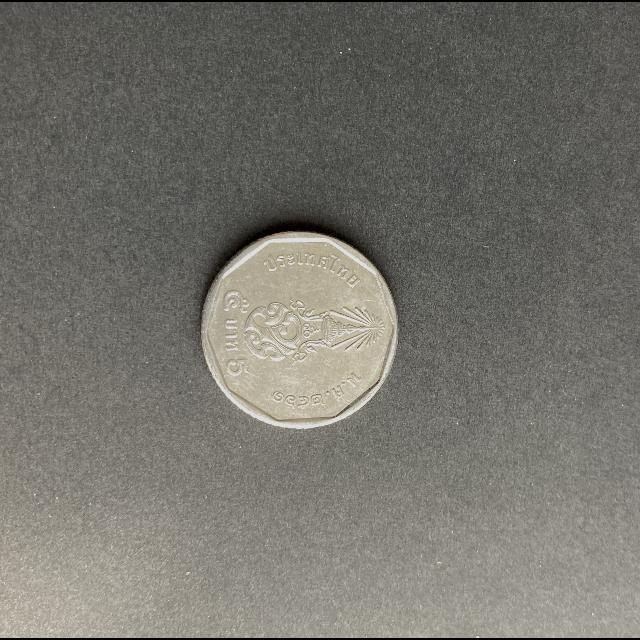5 Bath: (200, 228, 403, 433)
